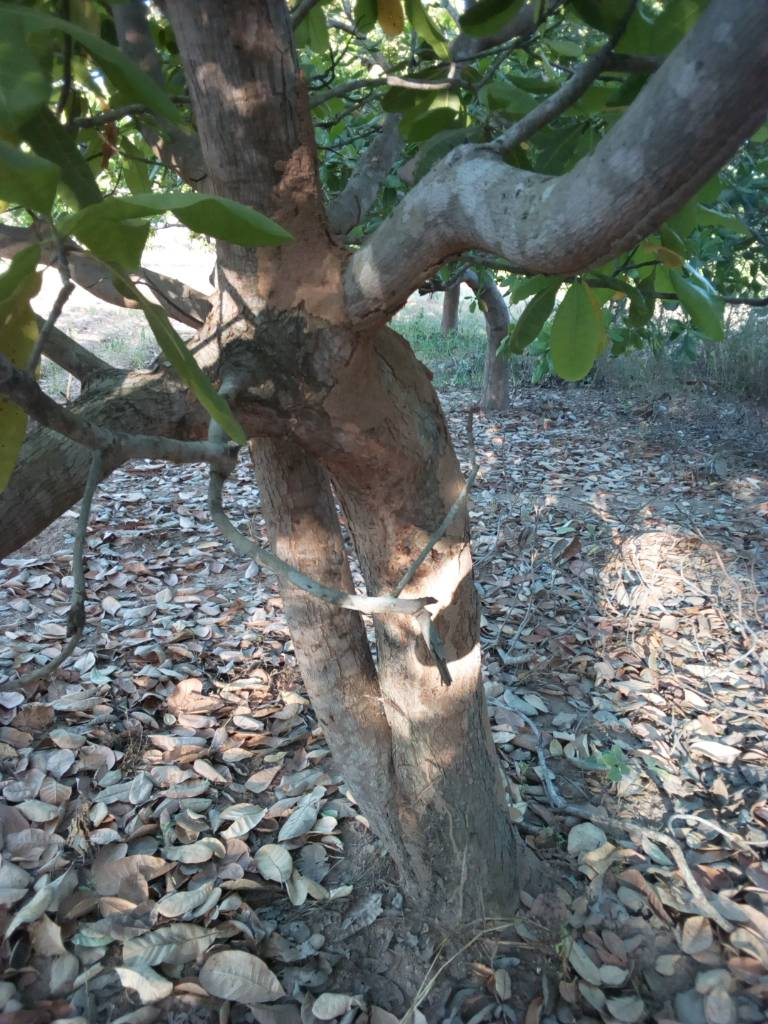Termites: (322, 352, 483, 761), (274, 161, 346, 310)
